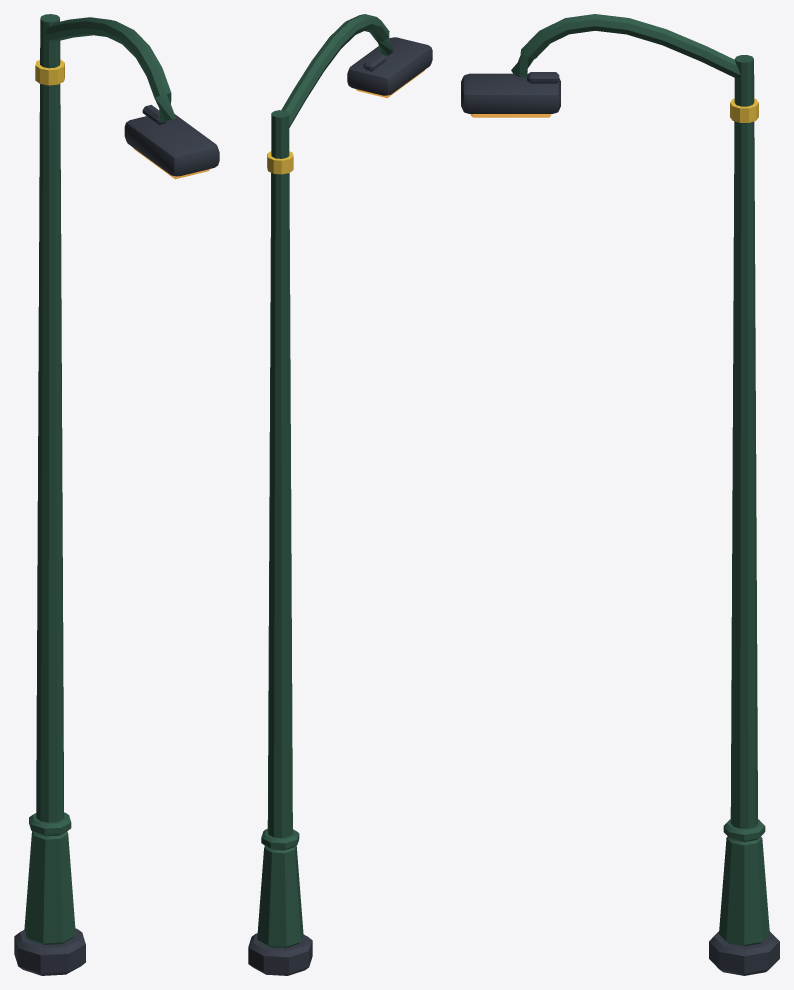
The model's file is street_lamp.glb.
3 views of the same model, side by side, from view 1: azimuth 30°, elevation 25°; view 2: azimuth 150°, elevation 25°; view 3: azimuth 270°, elevation 25° (orthographic). The views are drawn at different scales.
Visible parts, largest first — view 1: street_lamp; view 2: street_lamp; view 3: street_lamp.
Boxes of the visible parts, x1=… form: street_lamp: x1=14, y1=14, x2=219, y2=975; street_lamp: x1=248, y1=14, x2=432, y2=975; street_lamp: x1=461, y1=14, x2=779, y2=975.
Bounding box in the file's own units: 0.44 × 6.51 × 1.98.
2 materials, 2 textured.
